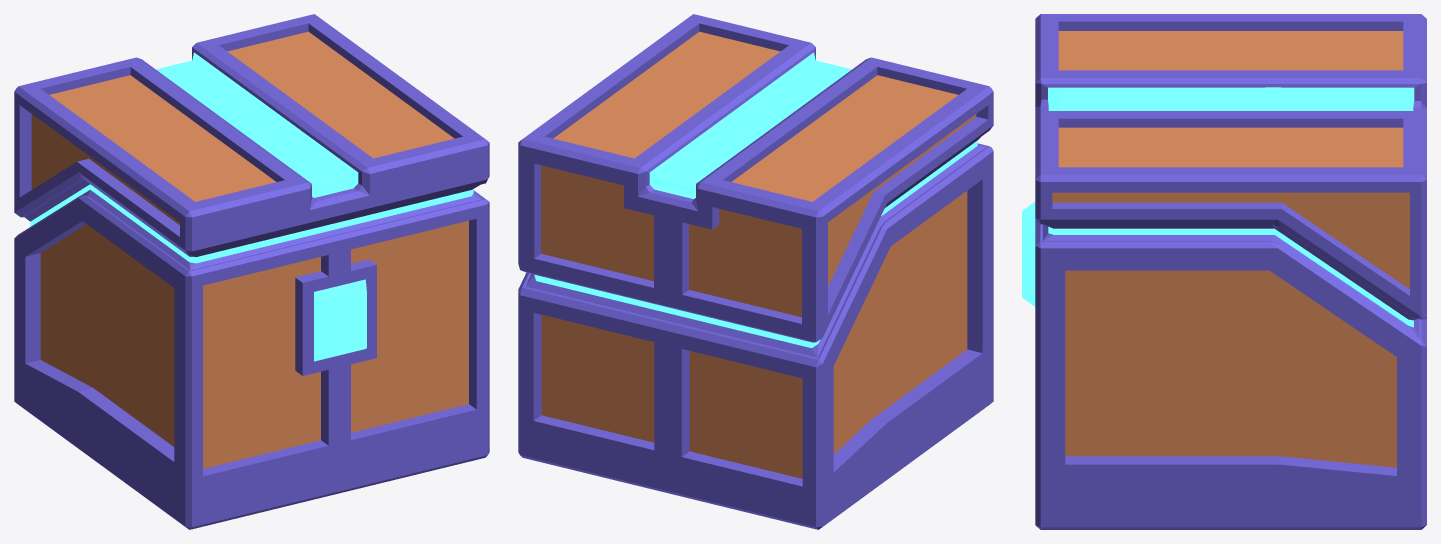
File: Scifi_Box.fbx
3 views of the same model, side by side, from view 1: azimuth 30°, elevation 25°; view 2: azimuth 150°, elevation 25°; view 3: azimuth 270°, elevation 25° (orthographic). The views are drawn at different scales.
Parts seen in each view (by area): view 1: StorageCrate; view 2: StorageCrate; view 3: StorageCrate.
Boxes of the visible parts, x1,y1,x2,y2 form: StorageCrate: [14, 14, 489, 529]; StorageCrate: [518, 14, 993, 529]; StorageCrate: [1022, 14, 1426, 529].
Size of the model in its own units: 174 by 174 by 179.
